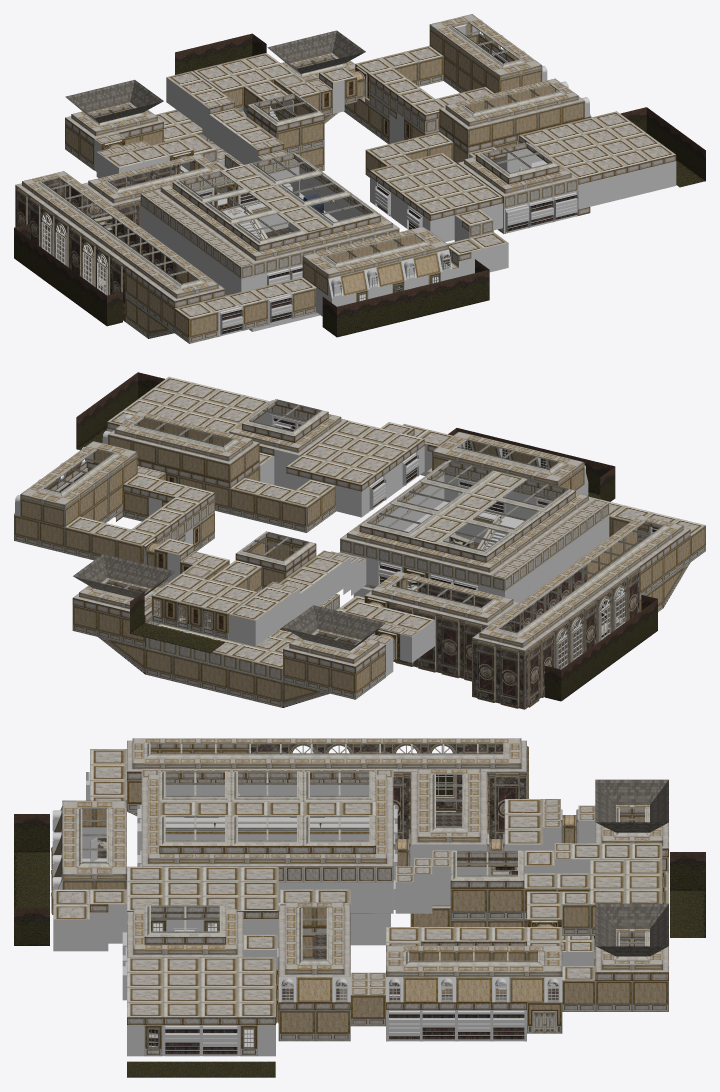
The model's file is Luxville_World.obj.
3 renders of one model, top to bottom at view 1: azimuth 30°, elevation 25°; view 2: azimuth 150°, elevation 25°; view 3: azimuth 270°, elevation 25°, orthographic. The views are drawn at different scales.
Parts seen in each view (by area): view 1: Luxville_Base; view 2: Luxville_Base; view 3: Luxville_Base, Luxville_Object.
Boxes of the visible parts, <box> form: Luxville_Base: <box>14,14,705,343</box>; Luxville_Base: <box>14,372,705,709</box>; Luxville_Base: <box>14,738,705,1077</box>; Luxville_Object: <box>149,866,517,1046</box>.
Bounding box in the file's own units: 86.56 × 15.96 × 75.21.
